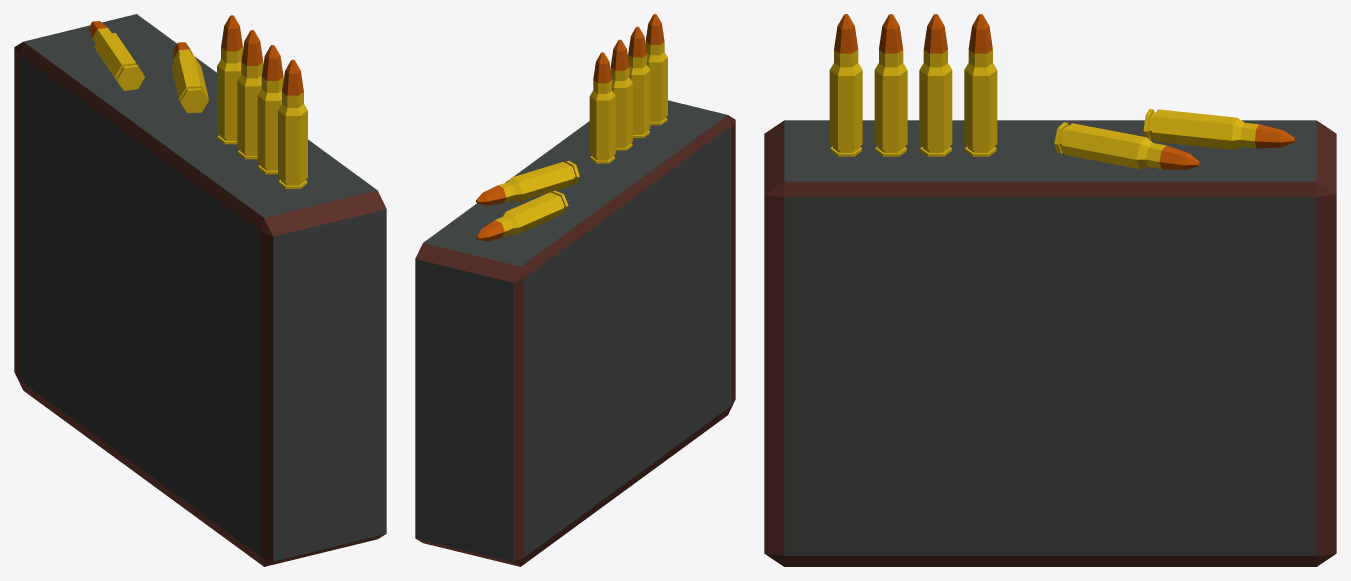
Rendered from smg_ammo.gltf.
The picture shows the model from 3 angles, left to right: view 1: azimuth 30°, elevation 25°; view 2: azimuth 150°, elevation 25°; view 3: azimuth 270°, elevation 25°; orthographic projection. The views are drawn at different scales.
Visible parts, largest first — view 1: AssaultRifleAmmo_Box_Cube; view 2: AssaultRifleAmmo_Box_Cube; view 3: AssaultRifleAmmo_Box_Cube.
Part boxes in pixels (box(x1,y1,x2,y2)): AssaultRifleAmmo_Box_Cube: box(14, 14, 386, 566); AssaultRifleAmmo_Box_Cube: box(415, 14, 735, 566); AssaultRifleAmmo_Box_Cube: box(764, 14, 1336, 566).
Bounding box in the file's own units: 0.1256 × 0.4645 × 0.4618.
